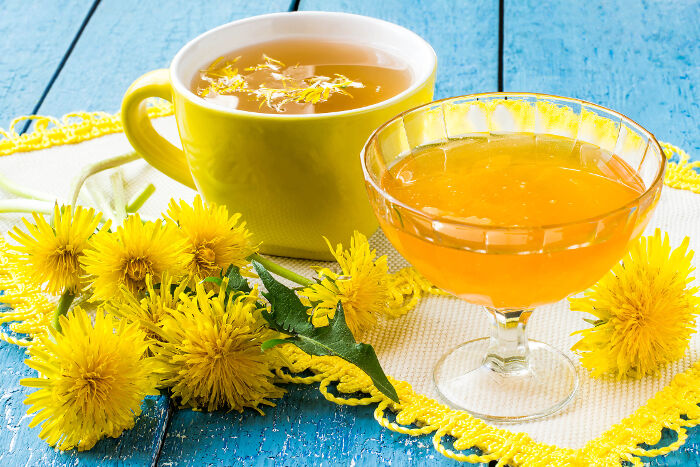dandelion: (28, 314, 157, 435), (167, 284, 279, 408), (591, 259, 688, 376), (113, 212, 252, 282), (319, 253, 402, 329), (21, 214, 94, 291)
